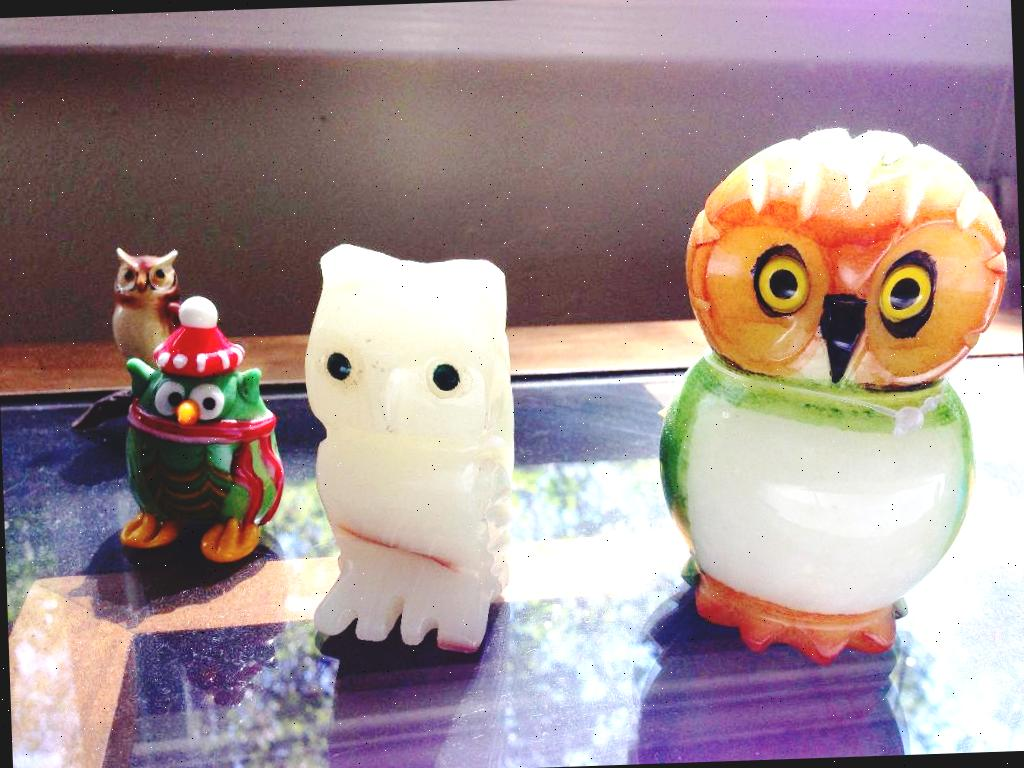Owl: (627, 122, 1024, 672), (292, 234, 524, 660), (112, 351, 294, 564), (110, 244, 184, 382)
